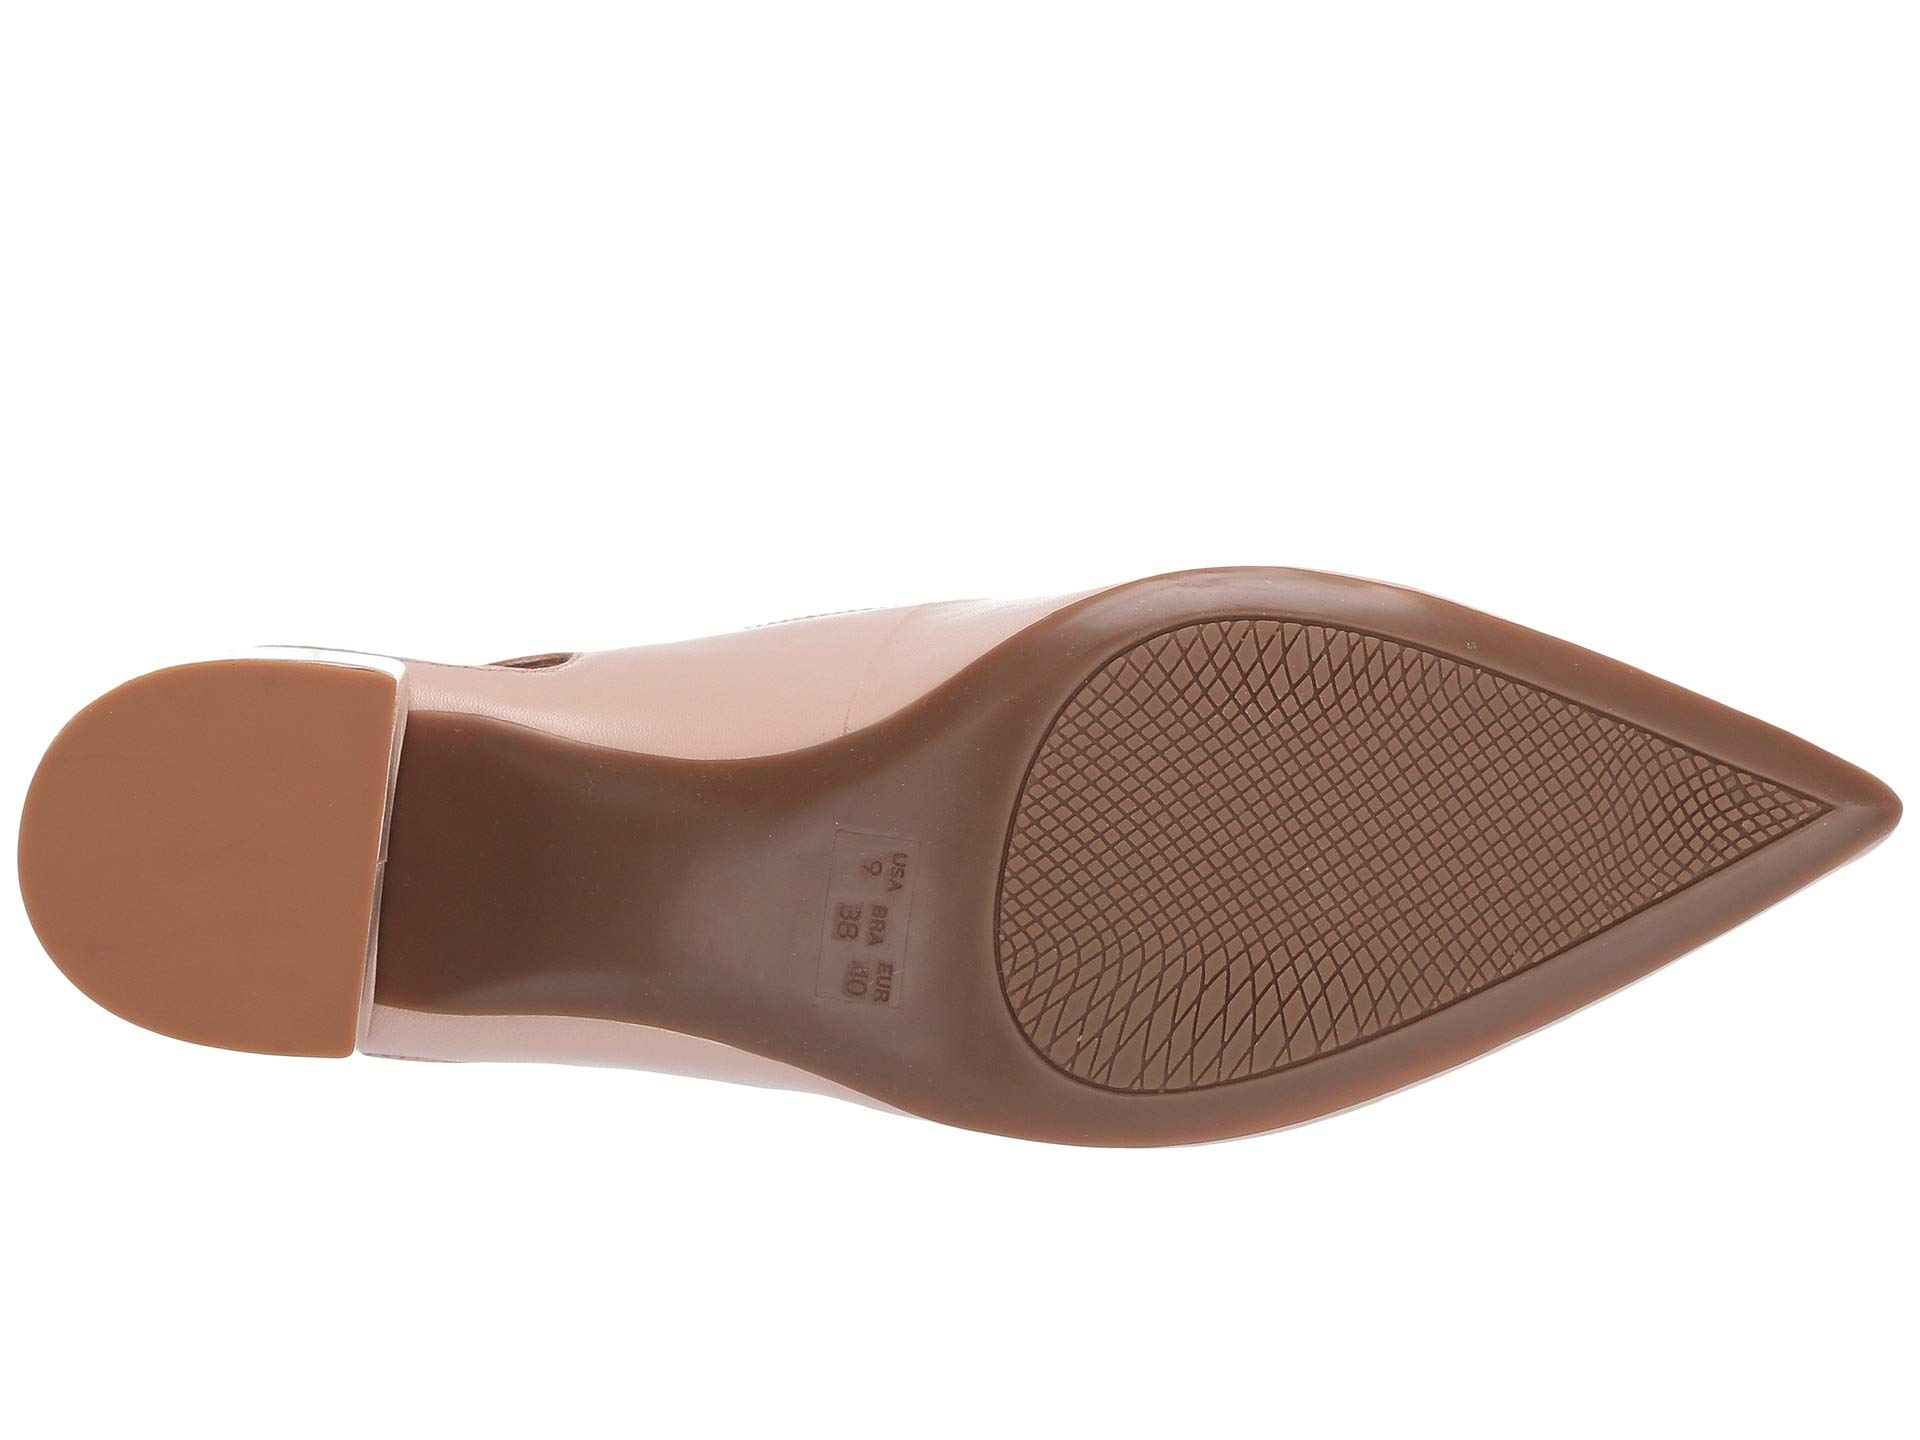quad: (1190, 685, 1456, 932), (1013, 927, 1175, 1091), (1536, 740, 1661, 880)
text: (841, 841, 927, 914)
